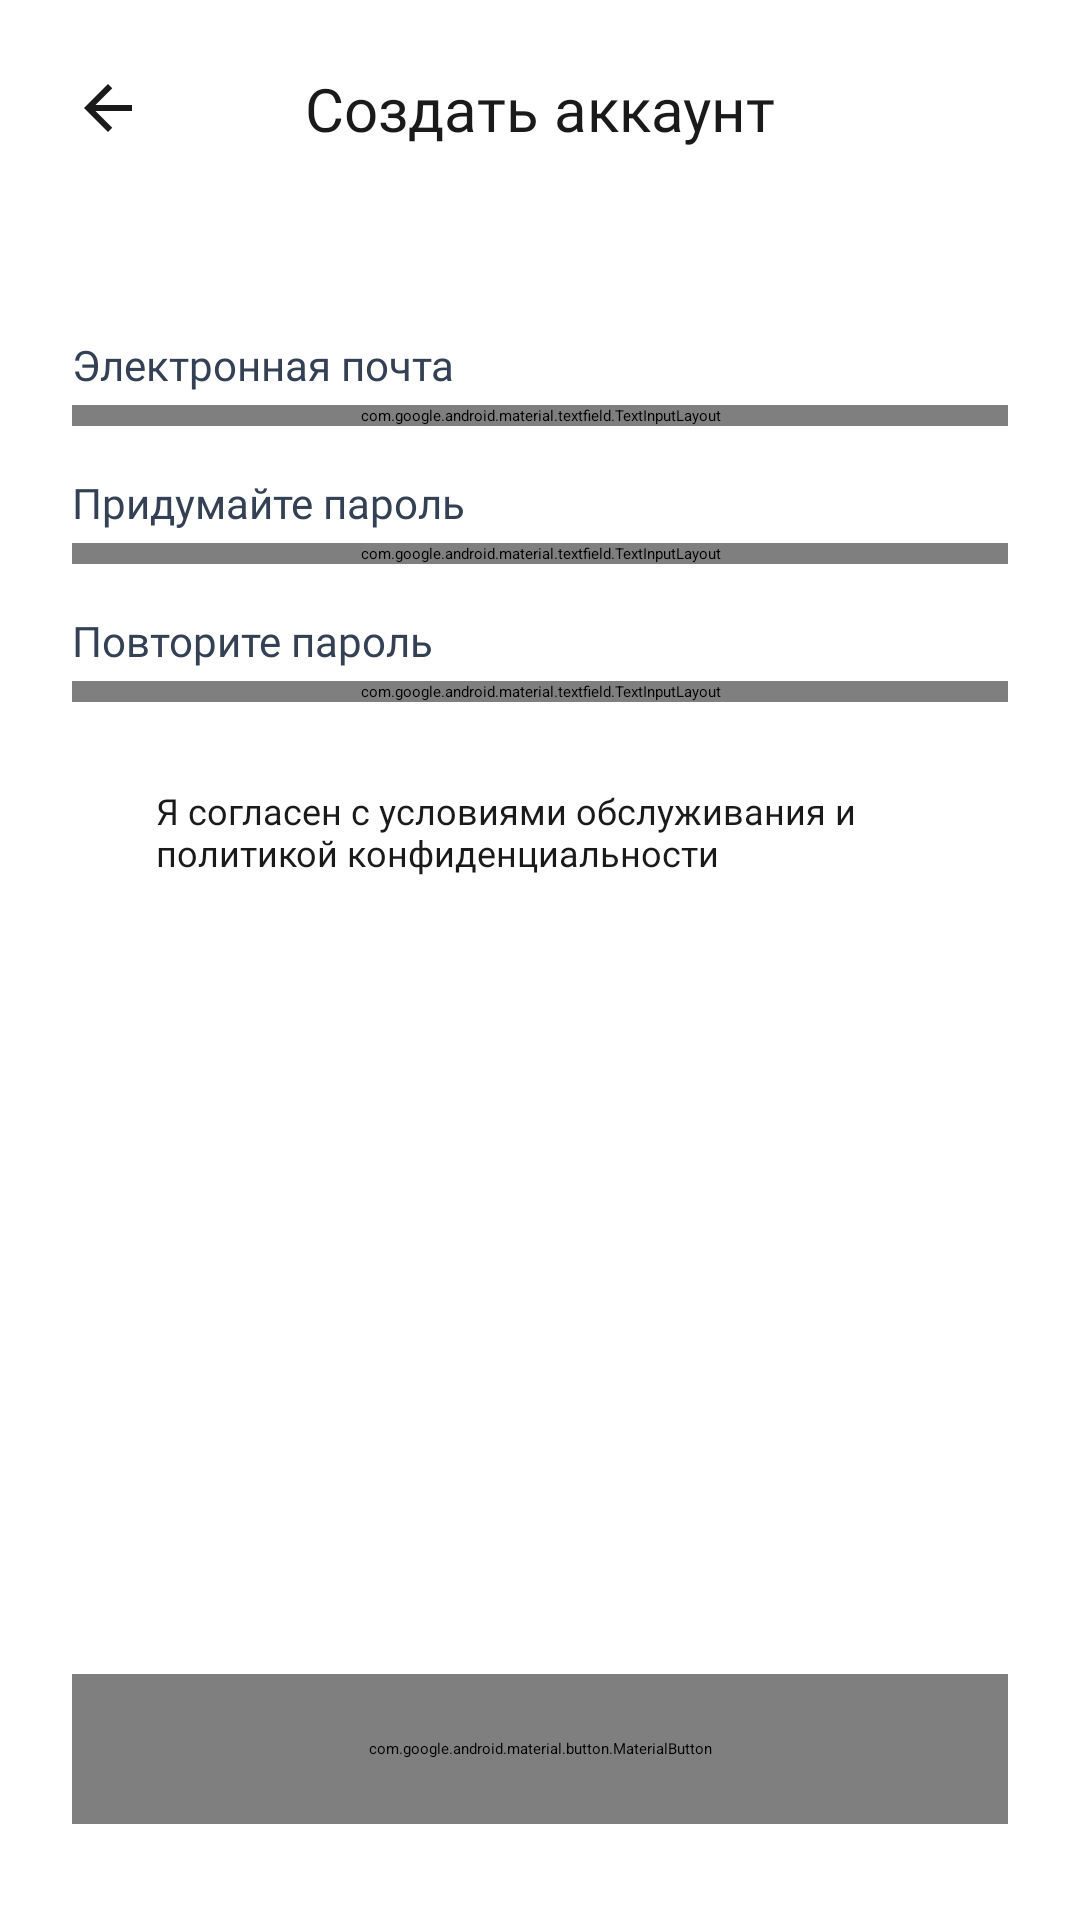

Named icons in this screenshot (1080 × 1920) and their bounding boxes, (x1, y1, x2, y2):
Назад: (84, 84, 132, 132)
